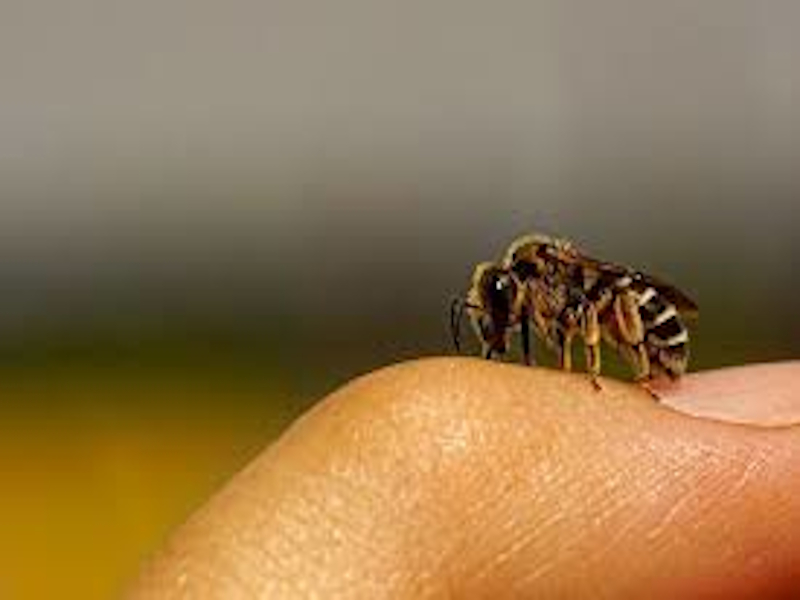abeja: (433, 217, 716, 404)
